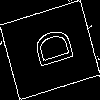D: (24, 25, 75, 73)
